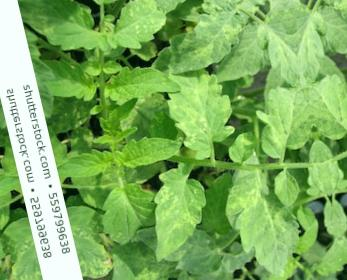Tomato leaf mosaic virus: (218, 158, 310, 280), (157, 40, 244, 163), (134, 160, 219, 265), (21, 0, 111, 70), (200, 17, 283, 91), (160, 8, 247, 77), (247, 81, 316, 161), (92, 177, 161, 254), (100, 57, 184, 115), (95, 0, 176, 57), (114, 128, 188, 175), (56, 146, 119, 187), (99, 251, 147, 280), (269, 168, 302, 209)
